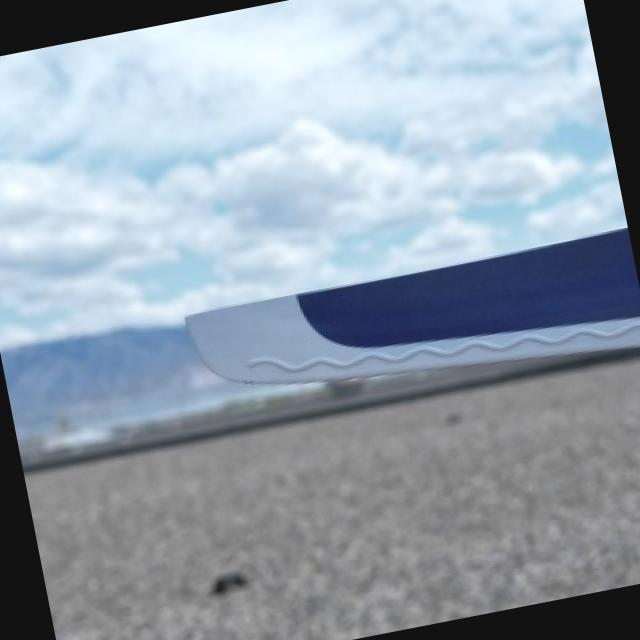healthy: (189, 225, 640, 382)
